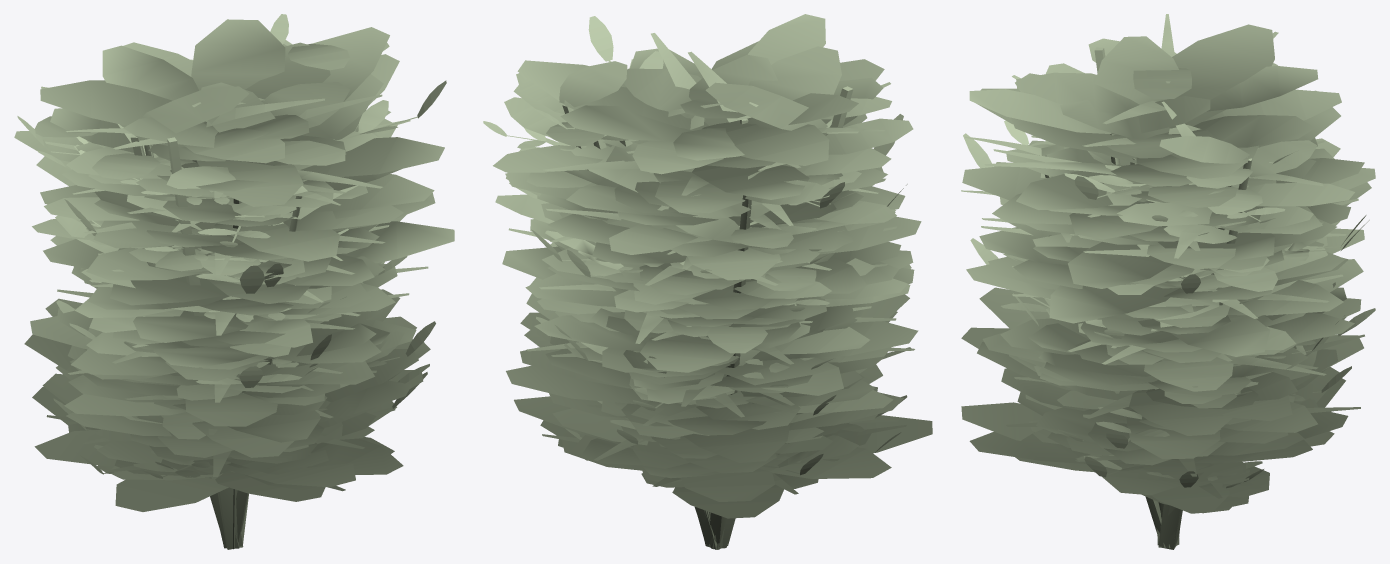
The model's file is herb_erect.glb.
3 renders of one model, left to right at view 1: azimuth 30°, elevation 25°; view 2: azimuth 150°, elevation 25°; view 3: azimuth 270°, elevation 25°, orthographic.
Parts seen in each view (by area): view 1: v8_foliage, v2_foliage, v1_foliage, v6_foliage, v7_foliage, v0_foliage, v5_foliage, v11_foliage, v3_foliage, v9_foliage, v10_foliage, v4_foliage; view 2: v8_foliage, v2_foliage, v1_foliage, v0_foliage, v6_foliage, v7_foliage, v11_foliage, v5_foliage, v10_foliage, v3_foliage, v4_foliage, v9_foliage; view 3: v2_foliage, v8_foliage, v1_foliage, v6_foliage, v0_foliage, v7_foliage, v5_foliage, v11_foliage, v10_foliage, v4_foliage, v9_foliage, v3_foliage.
Part boxes in pixels (x1,y1,x2,y2): v8_foliage: (30, 19, 444, 511); v2_foliage: (24, 27, 454, 501); v1_foliage: (64, 42, 399, 480); v6_foliage: (44, 40, 389, 548); v7_foliage: (75, 82, 378, 490); v0_foliage: (14, 43, 349, 549); v5_foliage: (17, 80, 446, 474); v11_foliage: (41, 86, 409, 491); v3_foliage: (56, 137, 330, 549); v9_foliage: (66, 98, 357, 541); v10_foliage: (45, 98, 428, 442); v4_foliage: (37, 14, 429, 410); v8_foliage: (502, 41, 932, 501); v2_foliage: (506, 59, 913, 518); v1_foliage: (513, 46, 893, 549); v0_foliage: (495, 61, 891, 549); v6_foliage: (493, 73, 913, 549); v7_foliage: (548, 14, 907, 519); v11_foliage: (539, 33, 914, 494); v5_foliage: (531, 16, 907, 475); v10_foliage: (508, 51, 871, 463); v3_foliage: (483, 86, 907, 549); v4_foliage: (535, 109, 857, 444); v9_foliage: (649, 102, 884, 254); v2_foliage: (961, 24, 1371, 513); v8_foliage: (961, 88, 1363, 497); v1_foliage: (1000, 36, 1341, 519); v6_foliage: (1078, 38, 1354, 548); v0_foliage: (1029, 63, 1317, 548); v7_foliage: (969, 89, 1375, 512); v5_foliage: (963, 133, 1369, 487); v11_foliage: (981, 31, 1364, 498); v10_foliage: (1031, 100, 1360, 548); v4_foliage: (1004, 120, 1375, 481); v9_foliage: (961, 14, 1195, 532); v3_foliage: (1003, 47, 1285, 549).
Size of the model in its own units: 0.8333 by 1 by 0.8333.
